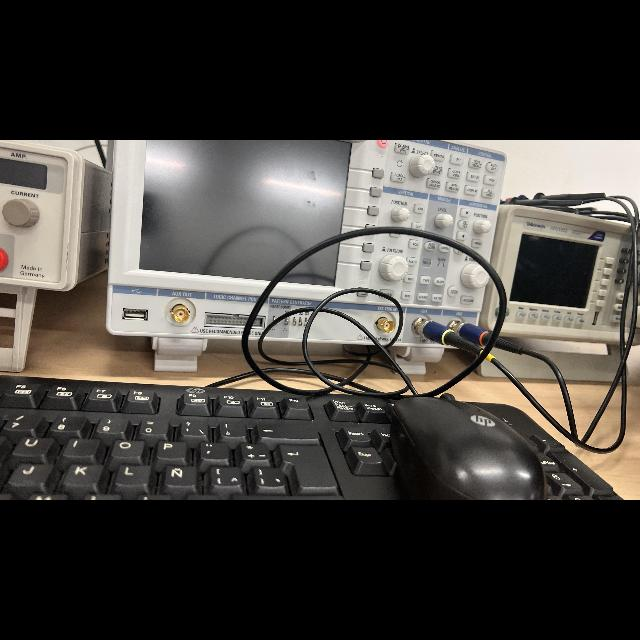Digital-Oscilloscope: (108, 140, 506, 349)
